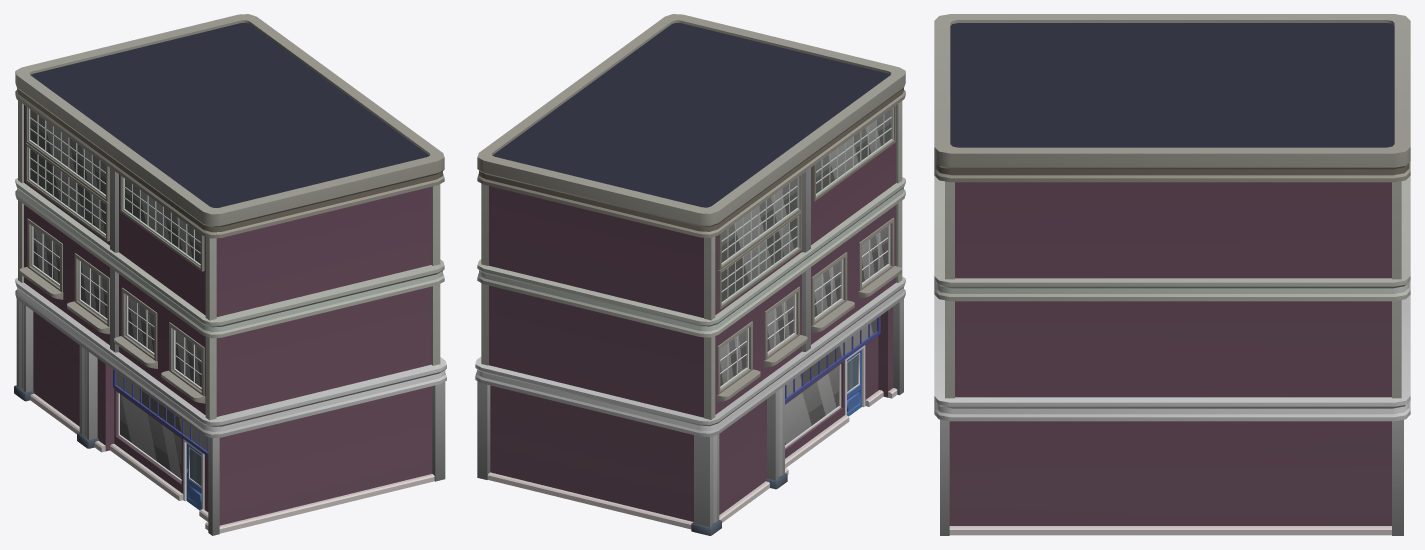
The model's file is Building_11_1_I.glb.
3 renders of one model, left to right at view 1: azimuth 30°, elevation 25°; view 2: azimuth 150°, elevation 25°; view 3: azimuth 270°, elevation 25°, orthographic. The views are drawn at different scales.
Visible parts, largest first — view 1: Building_11_1_I; view 2: Building_11_1_I; view 3: Building_11_1_I.
Boxes of the visible parts, left/top/right/bottom form: Building_11_1_I: left=14, top=14, right=446, bottom=535; Building_11_1_I: left=475, top=14, right=905, bottom=535; Building_11_1_I: left=934, top=14, right=1410, bottom=535.
Bounding box in the file's own units: 8.27 × 10.34 × 11.63.
3 materials, 3 textured.
